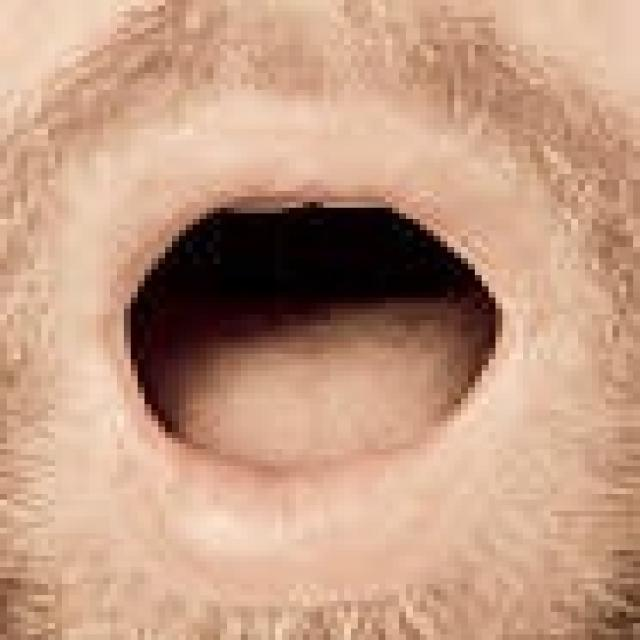open-mouth: (0, 0, 633, 634), (110, 185, 509, 472)
